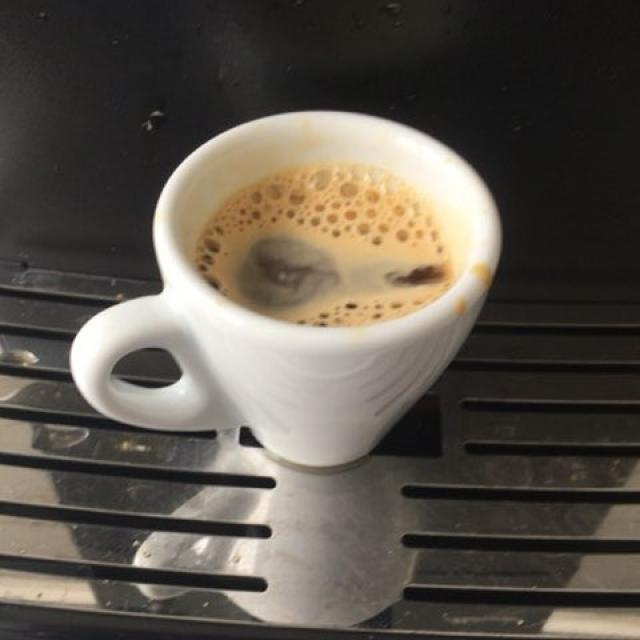espresso: (194, 162, 447, 322)
